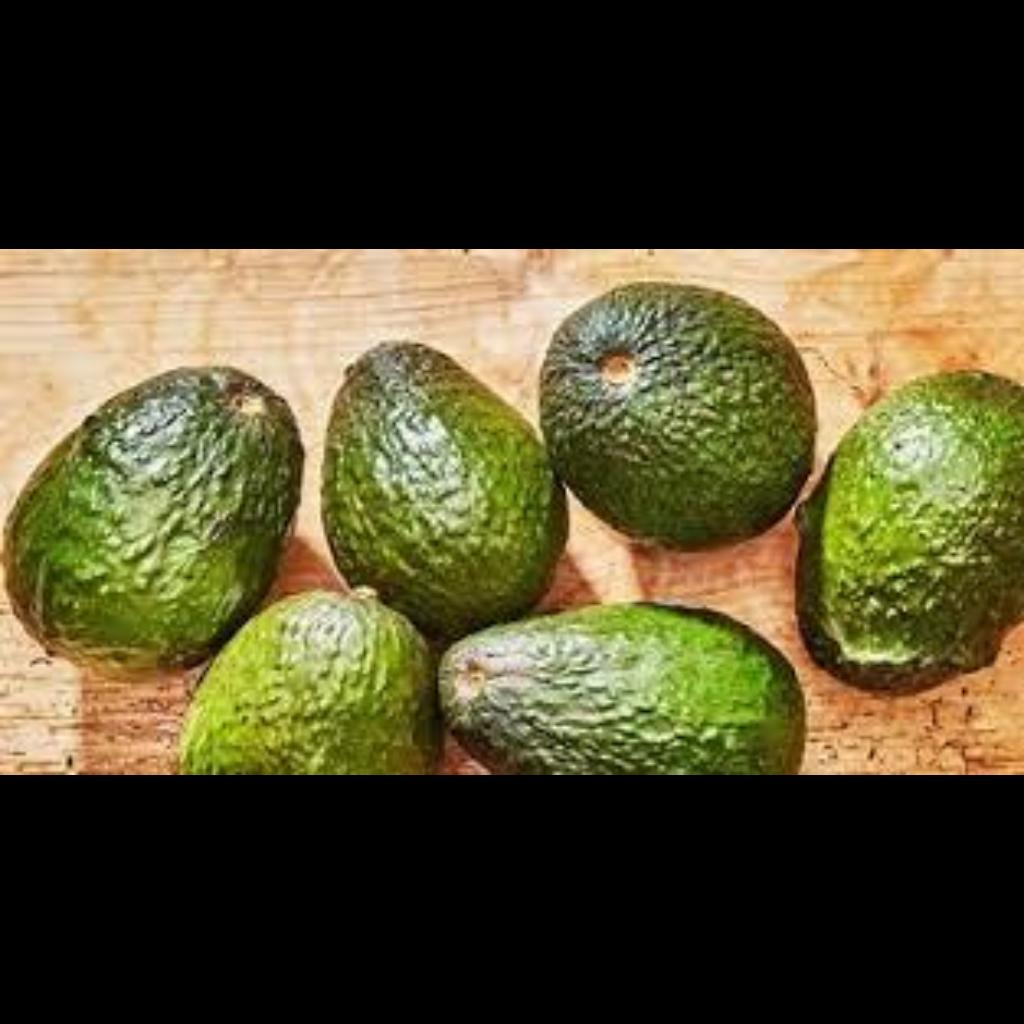cercospora: (19, 375, 294, 607), (565, 294, 804, 513)
